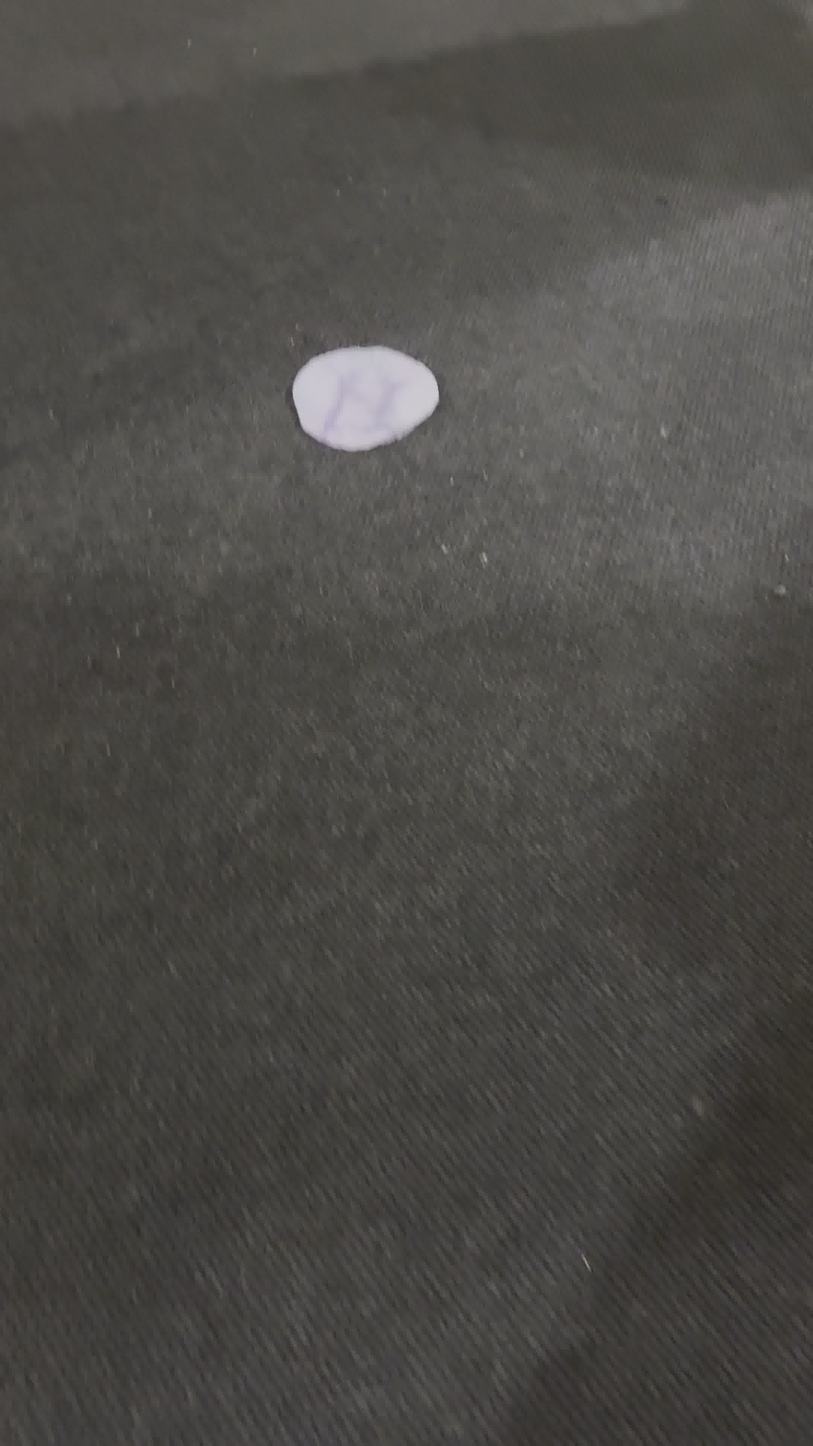Target: (292, 344, 439, 453)
